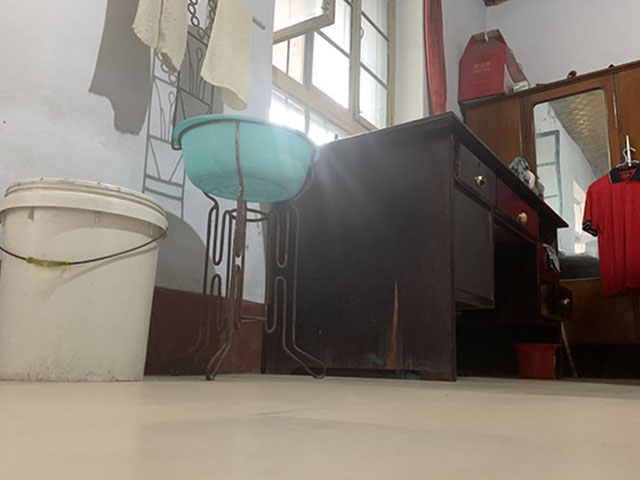table: (263, 110, 584, 383)
